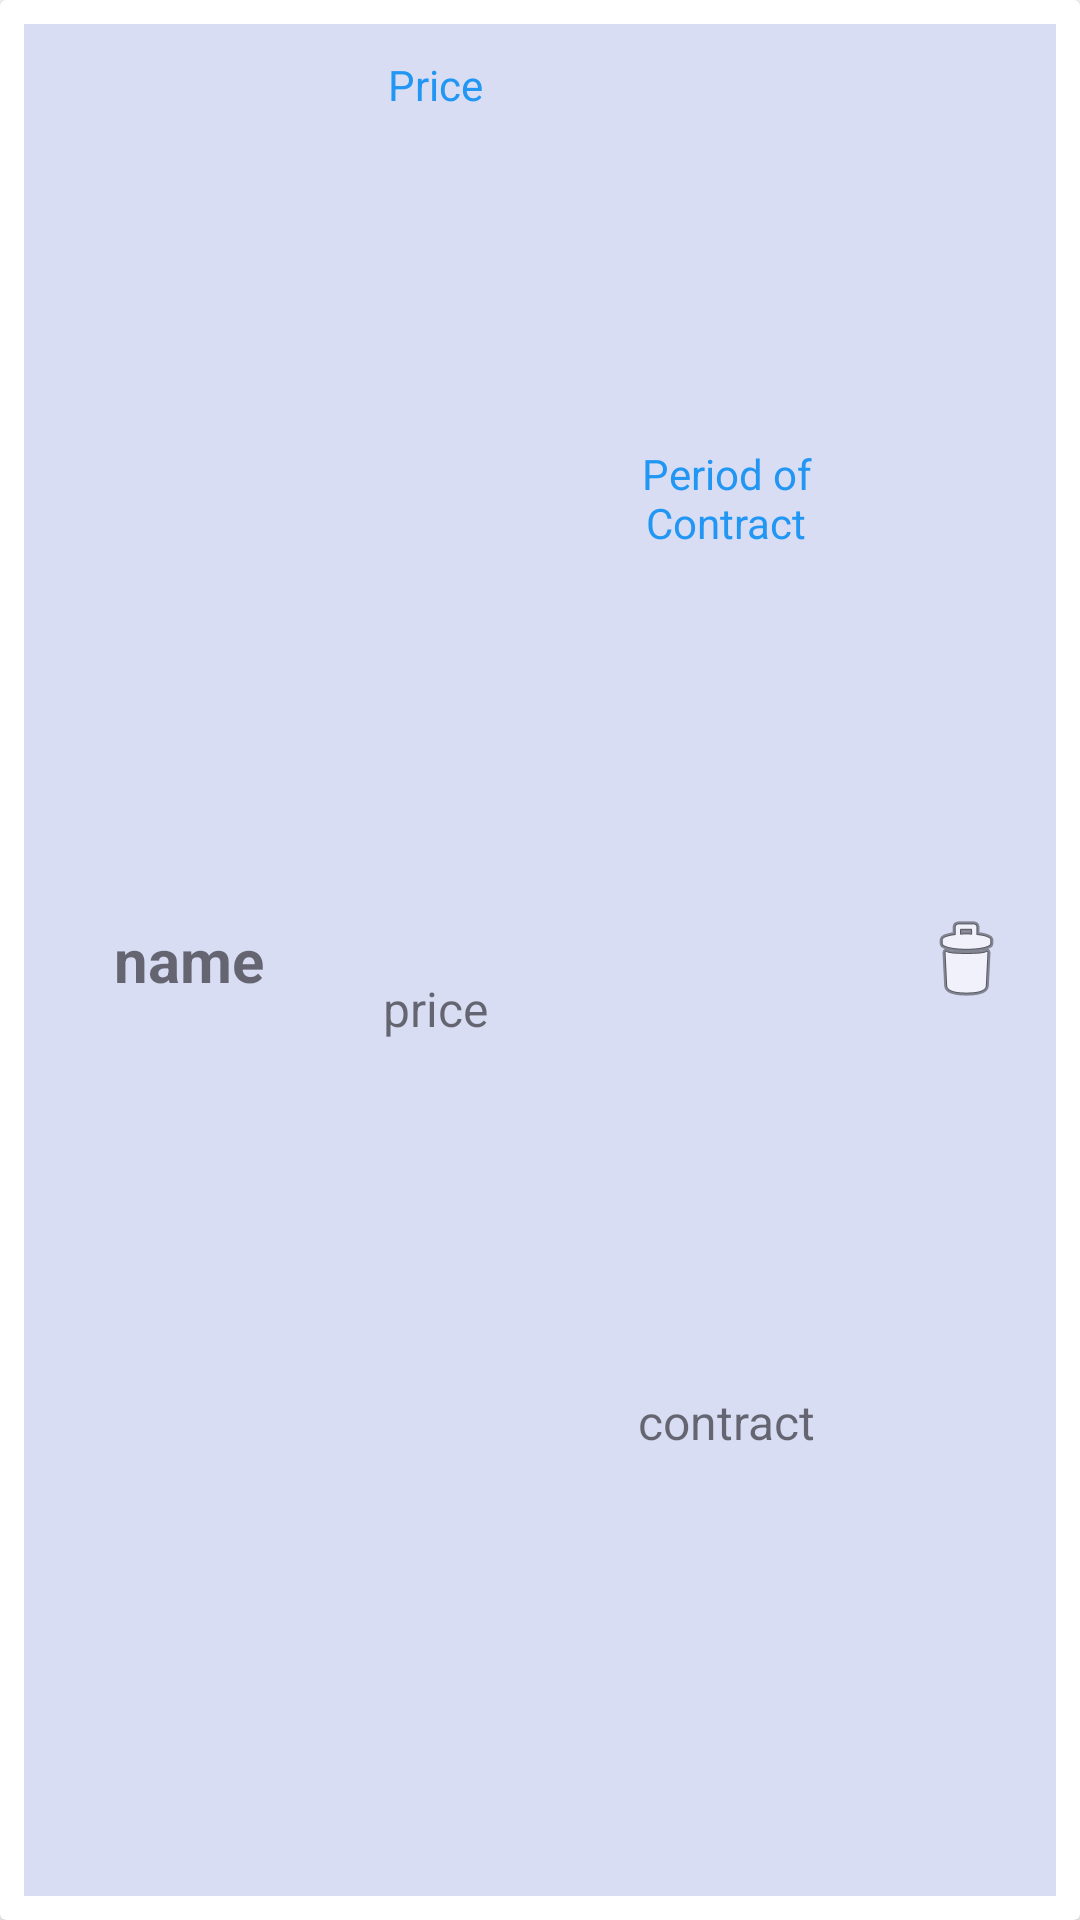

Named icons in this screenshot (1080 x 1920) and their centers, point (x, y):
delete: point (966, 958)
